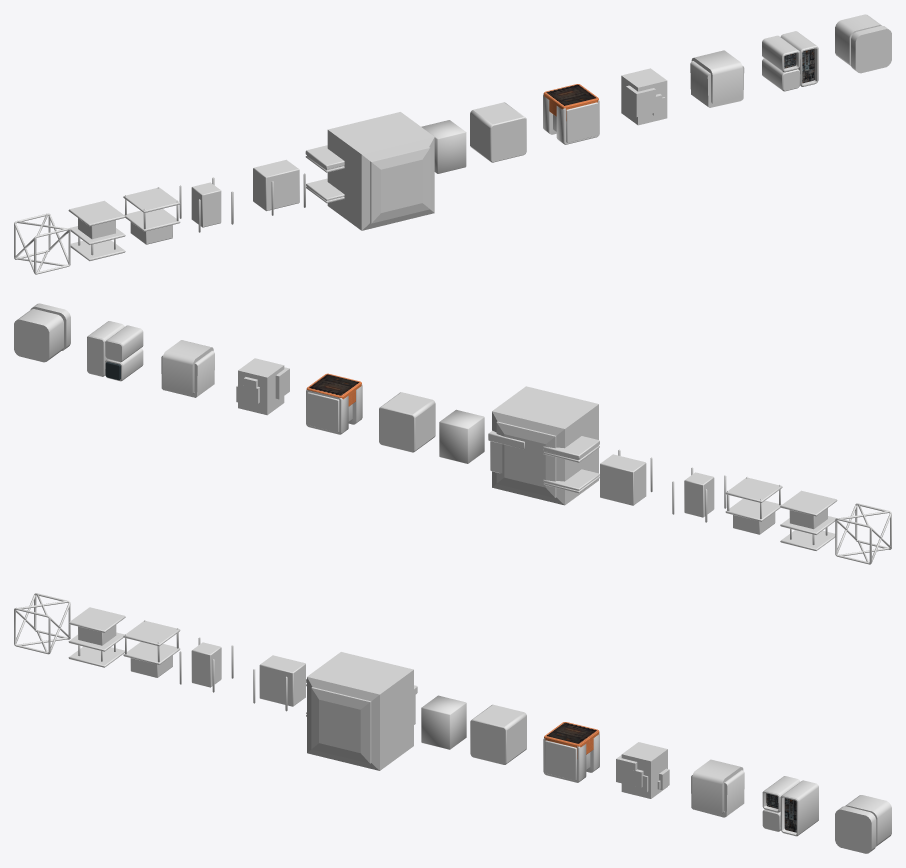
Rendered from facilities.glb.
3 views of the same model, one above another, from view 1: azimuth 30°, elevation 25°; view 2: azimuth 150°, elevation 25°; view 3: azimuth 330°, elevation 25° (orthographic).
Visible parts, largest first — view 1: Block00, FacilityBase, dynamo00, CubaMid.001, CubaTop.003, Double.001, Engine00.001, CubaMid.002, BlockBase, CubaTop.002, Scaffold.000, CubaMid.003 (+10 smaller); view 2: Block00, FacilityBase, dynamo00, Engine00, CubaMid.002, CubaMid.001, CubaTop.003, BlockBase, Double.001, CubaTop.002, Scaffold.000, CubaMid.003 (+8 smaller); view 3: Block00, FacilityBase, dynamo00, CubaMid.002, CubaMid.001, CubaTop.003, Double.001, BlockBase, Engine00.001, CubaTop.002, Scaffold.000, CubaMid.003 (+8 smaller).
Boxes of the visible parts, x1,y1,x2,y2 form: Block00: (327, 112, 434, 230); FacilityBase: (470, 102, 526, 162); dynamo00: (762, 31, 818, 91); CubaMid.001: (253, 159, 299, 211); CubaTop.003: (68, 200, 125, 261); Double.001: (691, 50, 742, 105); Engine00.001: (851, 25, 891, 73); CubaMid.002: (421, 120, 466, 173); BlockBase: (621, 68, 667, 125); CubaTop.002: (123, 188, 180, 231); Scaffold.000: (14, 213, 70, 274); CubaMid.003: (191, 182, 221, 227); Block00: (492, 386, 598, 505); FacilityBase: (379, 392, 435, 452); dynamo00: (87, 321, 143, 381); Engine00: (14, 309, 63, 362); CubaMid.002: (439, 409, 484, 463); CubaMid.001: (600, 454, 646, 505); CubaTop.003: (780, 490, 837, 550); BlockBase: (238, 358, 284, 415); Double.001: (162, 340, 213, 395); CubaTop.002: (725, 478, 782, 521); Scaffold.000: (835, 503, 891, 564); CubaMid.003: (684, 472, 714, 517); Block00: (307, 652, 413, 770); FacilityBase: (470, 704, 526, 764); dynamo00: (762, 776, 818, 836); CubaMid.002: (421, 695, 466, 749); CubaMid.001: (259, 655, 305, 706); CubaTop.003: (68, 607, 125, 667); Double.001: (692, 759, 743, 814); BlockBase: (621, 742, 667, 798); Engine00.001: (835, 806, 876, 853); CubaTop.002: (123, 621, 180, 664); Scaffold.000: (14, 593, 70, 654); CubaMid.003: (191, 642, 221, 687).
Size of the model in its own units: 23.5 by 2 by 2.03.
6 materials, 2 textured.
